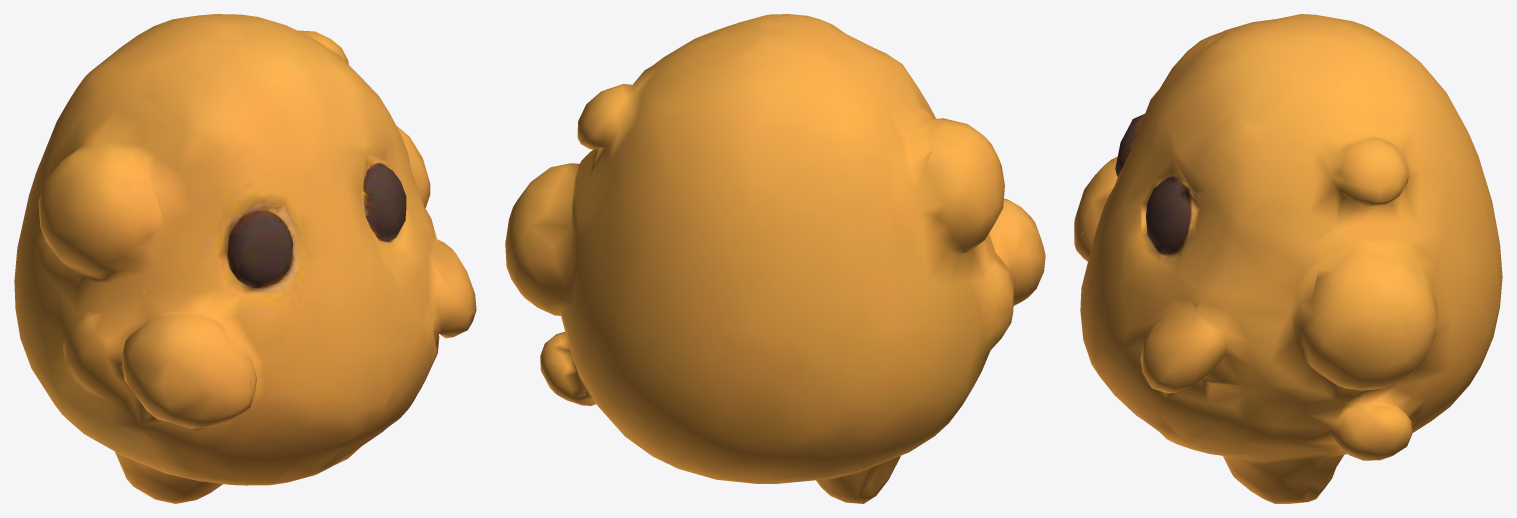
The model's file is normal.glb.
The picture shows the model from 3 angles, left to right: view 1: azimuth 30°, elevation 25°; view 2: azimuth 150°, elevation 25°; view 3: azimuth 270°, elevation 25°; orthographic projection. The views are drawn at different scales.
Visible parts, largest first — view 1: tripo_node_7a49d868-b779-40c1-9f25-33069654a4eb; view 2: tripo_node_7a49d868-b779-40c1-9f25-33069654a4eb; view 3: tripo_node_7a49d868-b779-40c1-9f25-33069654a4eb.
Part boxes in pixels (left/top/right/bottom): tripo_node_7a49d868-b779-40c1-9f25-33069654a4eb: left=14, top=14, right=476, bottom=503; tripo_node_7a49d868-b779-40c1-9f25-33069654a4eb: left=505, top=14, right=1045, bottom=503; tripo_node_7a49d868-b779-40c1-9f25-33069654a4eb: left=1074, top=14, right=1502, bottom=503.
Bounding box in the file's own units: 0.9832 × 1 × 0.8973.
Materials: 1 (1 with a texture image).
